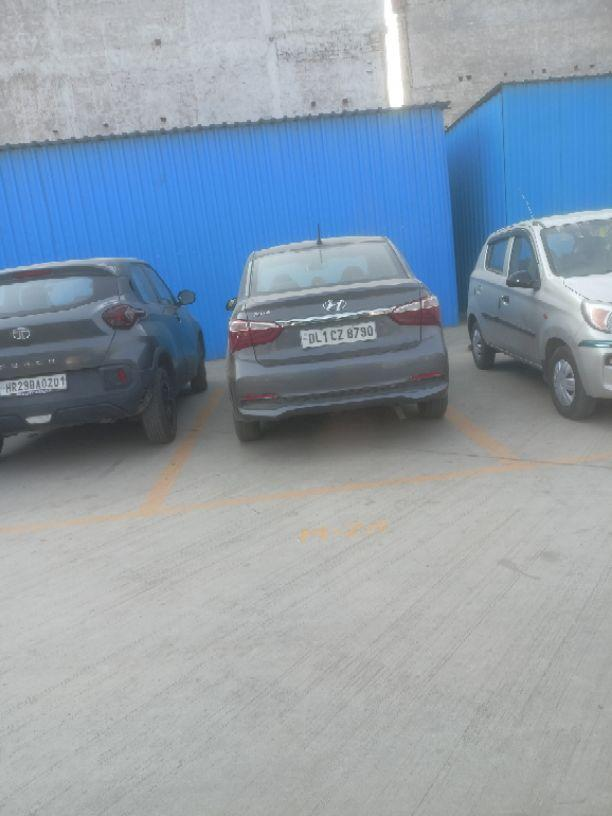license_plate: (298, 320, 377, 348), (0, 372, 68, 397)
